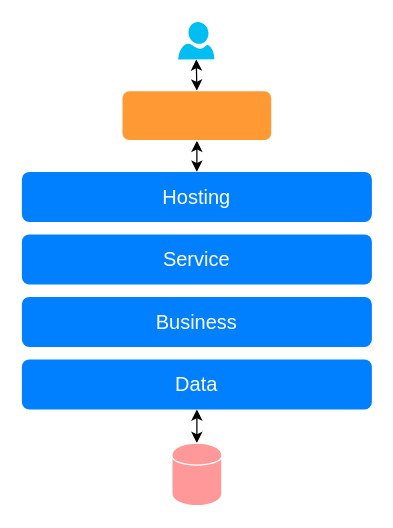
This 393x528 diagram has some shape labels left out. The box of each missing label's shape, as (x1, y1, x2, y2) in pixels:
DB: (171, 442, 222, 506)
UI: (121, 89, 272, 141)
